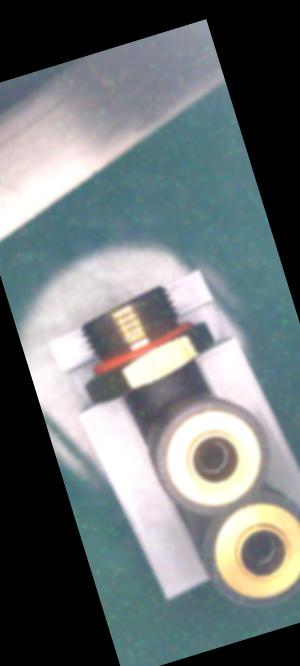craze: (151, 374, 172, 391)
